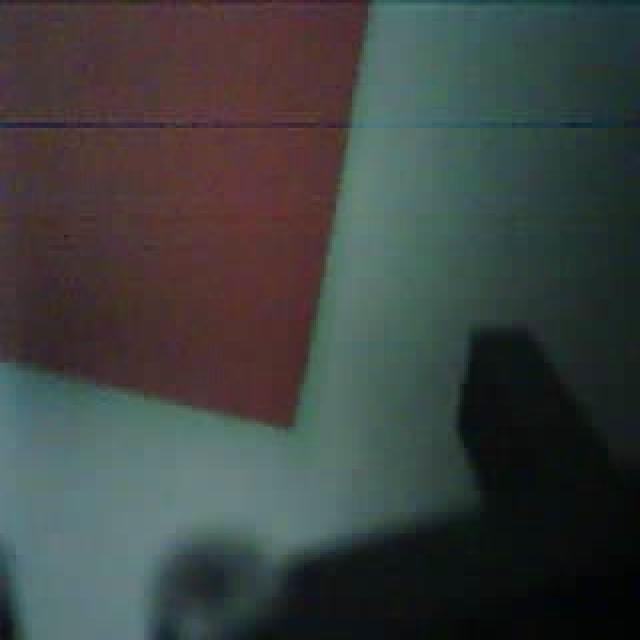red_box: (2, 8, 366, 434)
